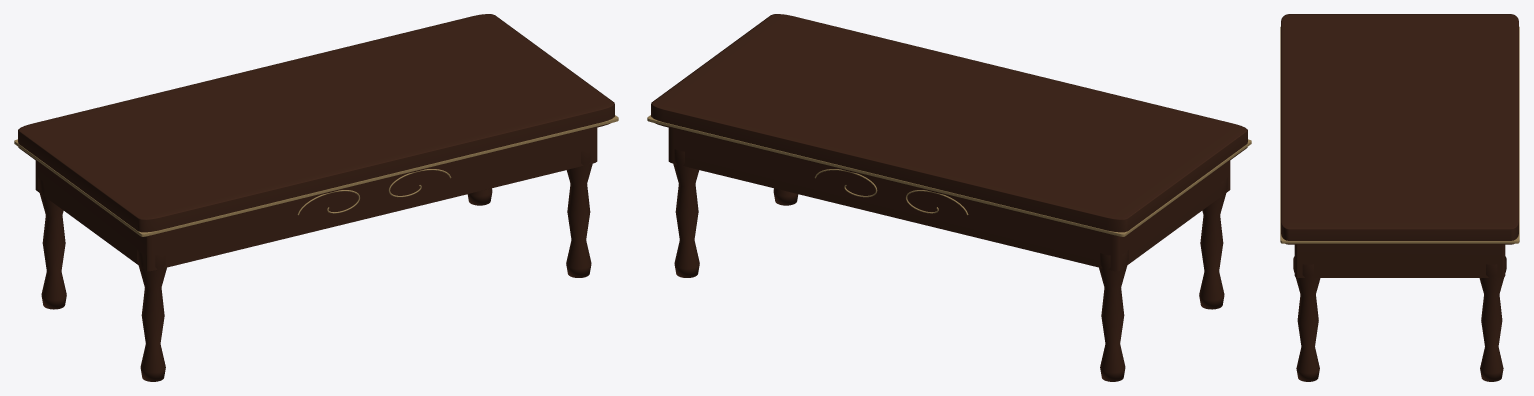
File: Meeting_Table.fbx
3 views of the same model, side by side, from view 1: azimuth 30°, elevation 25°; view 2: azimuth 150°, elevation 25°; view 3: azimuth 270°, elevation 25° (orthographic). The views are drawn at different scales.
Parts seen in each view (by area): view 1: Solid tabletop.003, Apron.003, Turned leg.038, Turned leg.040, Turned leg.039, Gold table edge.003; view 2: Solid tabletop.003, Apron.003, Turned leg.039, Turned leg.041, Turned leg.038, Gold table edge.003; view 3: Solid tabletop.003, Apron.003, Turned leg.040, Turned leg.041, Gold table edge.003.
Part boxes in pixels (bbox=[...]): Solid tabletop.003: bbox=[18, 14, 614, 235]; Apron.003: bbox=[35, 127, 597, 271]; Turned leg.038: bbox=[137, 250, 166, 381]; Turned leg.040: bbox=[566, 149, 592, 277]; Turned leg.039: bbox=[38, 177, 66, 309]; Gold table edge.003: bbox=[14, 115, 618, 236]; Solid tabletop.003: bbox=[651, 14, 1247, 235]; Apron.003: bbox=[668, 127, 1230, 271]; Turned leg.039: bbox=[1099, 250, 1128, 381]; Turned leg.041: bbox=[673, 149, 699, 277]; Turned leg.038: bbox=[1199, 177, 1227, 309]; Gold table edge.003: bbox=[647, 115, 1251, 236]; Solid tabletop.003: bbox=[1281, 14, 1518, 244]; Apron.003: bbox=[1294, 244, 1505, 277]; Turned leg.040: bbox=[1293, 256, 1320, 381]; Turned leg.041: bbox=[1479, 256, 1506, 381]; Gold table edge.003: bbox=[1280, 26, 1519, 243].
Size of the model in its own units: 2.26 by 0.78 by 1.05.
